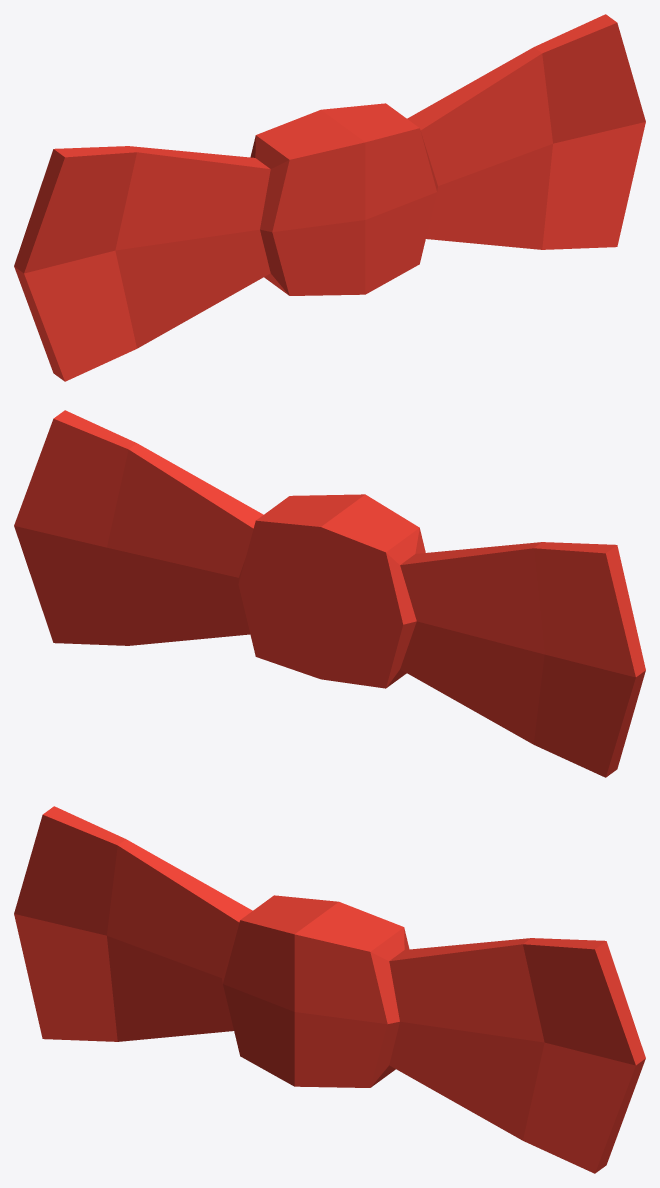
Rendered from ribbon.glb.
3 renders of one model, top to bottom at view 1: azimuth 30°, elevation 25°; view 2: azimuth 150°, elevation 25°; view 3: azimuth 330°, elevation 25°, orthographic.
Parts seen in each view (by area): view 1: Bowtie_01_Cube.031; view 2: Bowtie_01_Cube.031; view 3: Bowtie_01_Cube.031.
Boxes of the visible parts, box(x1,y1,x2,y2) form: Bowtie_01_Cube.031: box(14, 14, 645, 381); Bowtie_01_Cube.031: box(14, 410, 645, 777); Bowtie_01_Cube.031: box(14, 806, 645, 1173).
Size of the model in its own units: 10.04 by 3.46 by 1.25.
